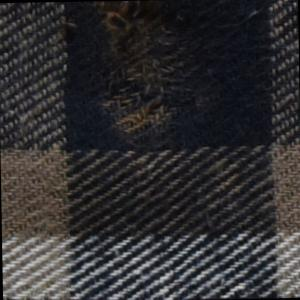Damage: (76, 1, 198, 147)
